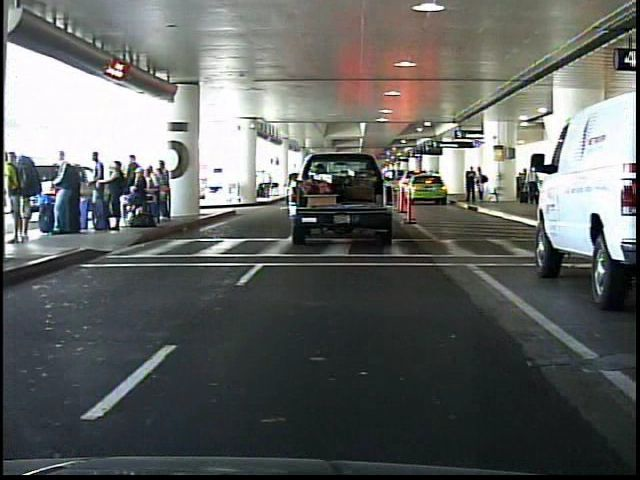person: (475, 165, 489, 203), (464, 166, 477, 203)
